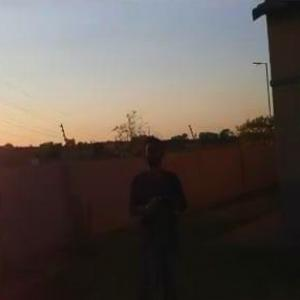follow: (122, 128, 197, 299)
